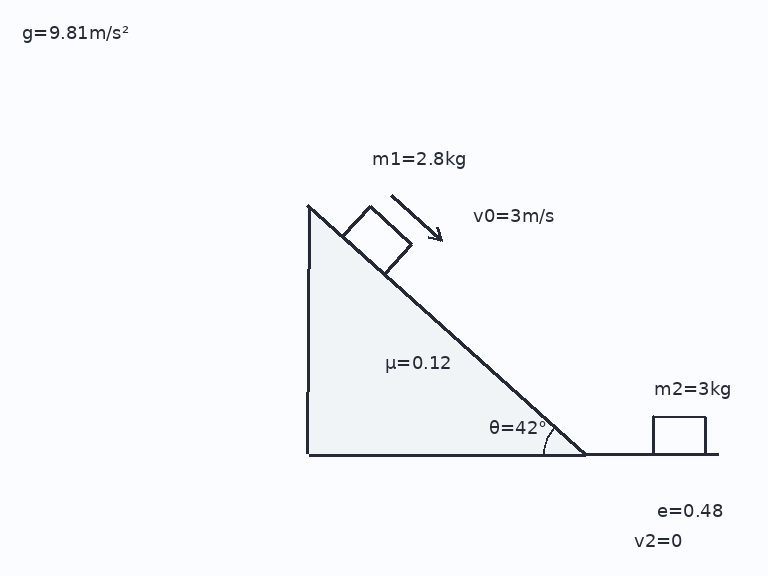block: (340, 204, 413, 276), (651, 415, 707, 456)
ramp: (306, 203, 586, 456)
